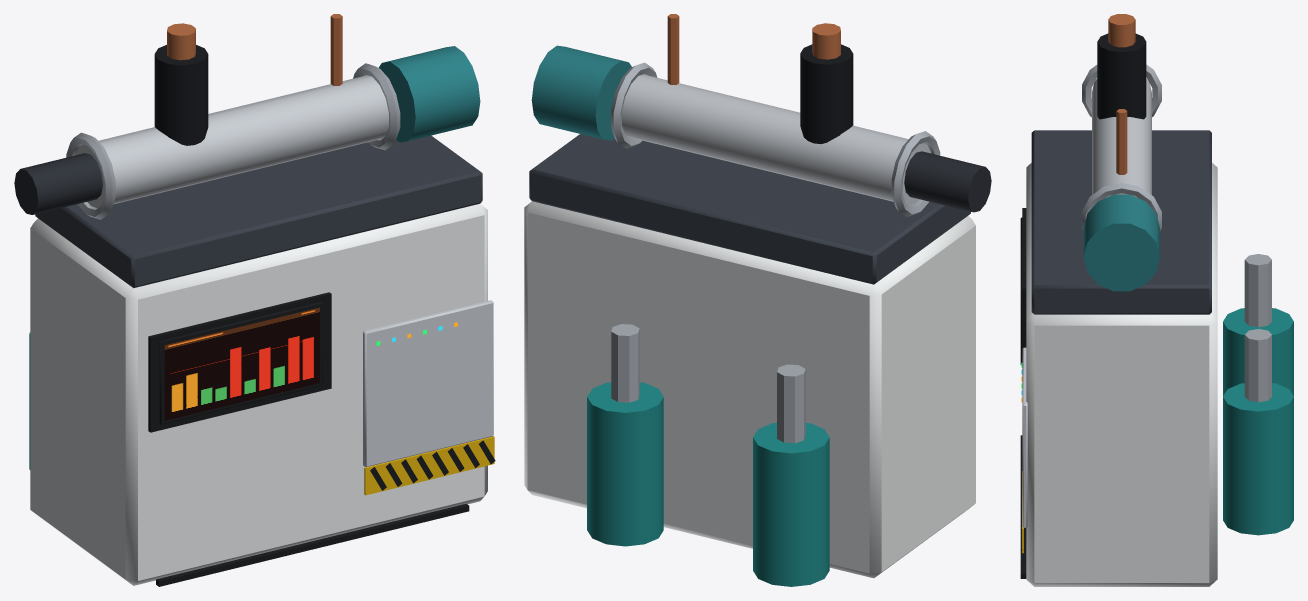
Rendered from analyzer_mass_spectrometer.glb.
3 renders of one model, left to right at view 1: azimuth 30°, elevation 25°; view 2: azimuth 150°, elevation 25°; view 3: azimuth 270°, elevation 25°, orthographic. The views are drawn at different scales.
Visible parts, largest first — view 1: analyzer_mass_spectrometer; view 2: analyzer_mass_spectrometer; view 3: analyzer_mass_spectrometer.
Boxes of the visible parts, bbox=[...] form: analyzer_mass_spectrometer: bbox=[14, 14, 495, 586]; analyzer_mass_spectrometer: bbox=[524, 14, 991, 586]; analyzer_mass_spectrometer: bbox=[1020, 14, 1293, 586].
Size of the model in its own units: 1.67 by 1.84 by 1.
Materials: 15 (1 with a texture image).
